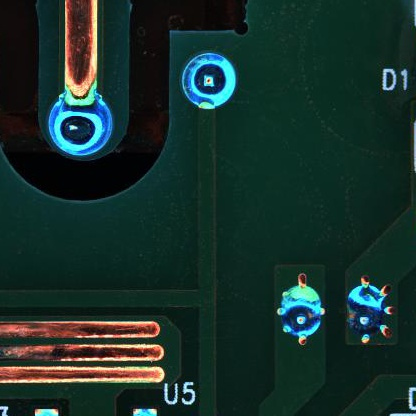spot: (47, 94, 114, 157), (276, 271, 327, 349), (179, 51, 239, 110), (346, 276, 395, 347)
